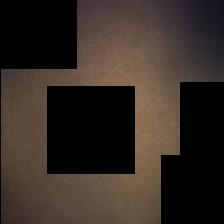brown: (0, 1, 224, 224)
